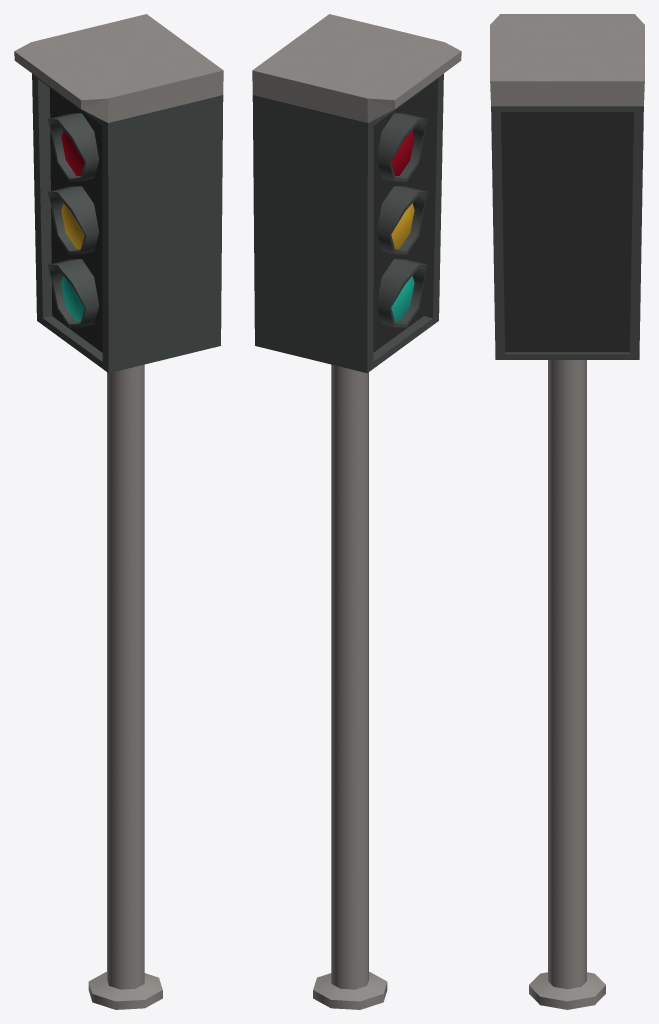
Rendered from trafficLight.fbx.
The picture shows the model from 3 angles, left to right: view 1: azimuth 30°, elevation 25°; view 2: azimuth 150°, elevation 25°; view 3: azimuth 270°, elevation 25°; orthographic projection.
Parts seen in each view (by area): view 1: sptp_traffic_light_01; view 2: sptp_traffic_light_01; view 3: sptp_traffic_light_01.
Boxes of the visible parts, box(x1,y1,x2,y2) form: sptp_traffic_light_01: box(14, 14, 223, 1009); sptp_traffic_light_01: box(252, 14, 461, 1009); sptp_traffic_light_01: box(490, 14, 644, 1009).
Size of the model in its own units: 73.4 by 479 by 71.34.
1 material, 1 textured.
